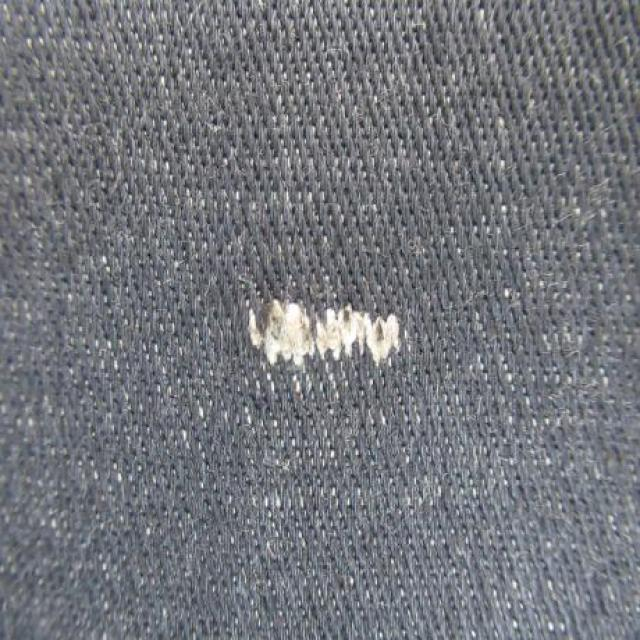Thread_other: (160, 239, 499, 407)
